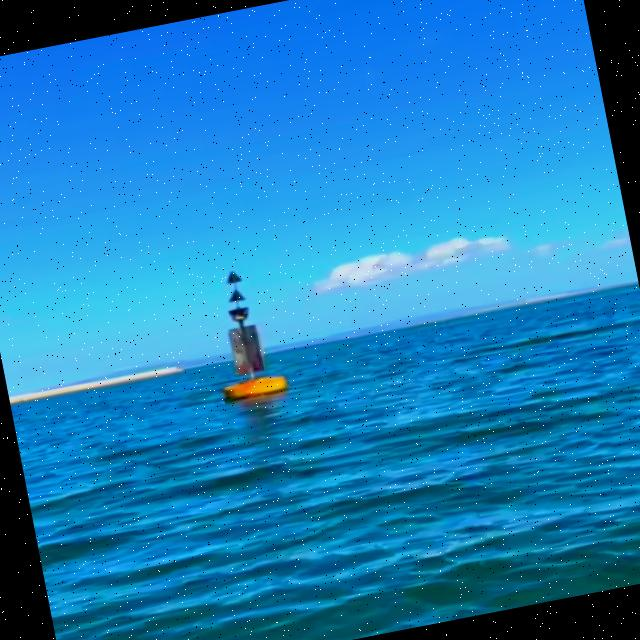marque: (199, 262, 293, 404)
